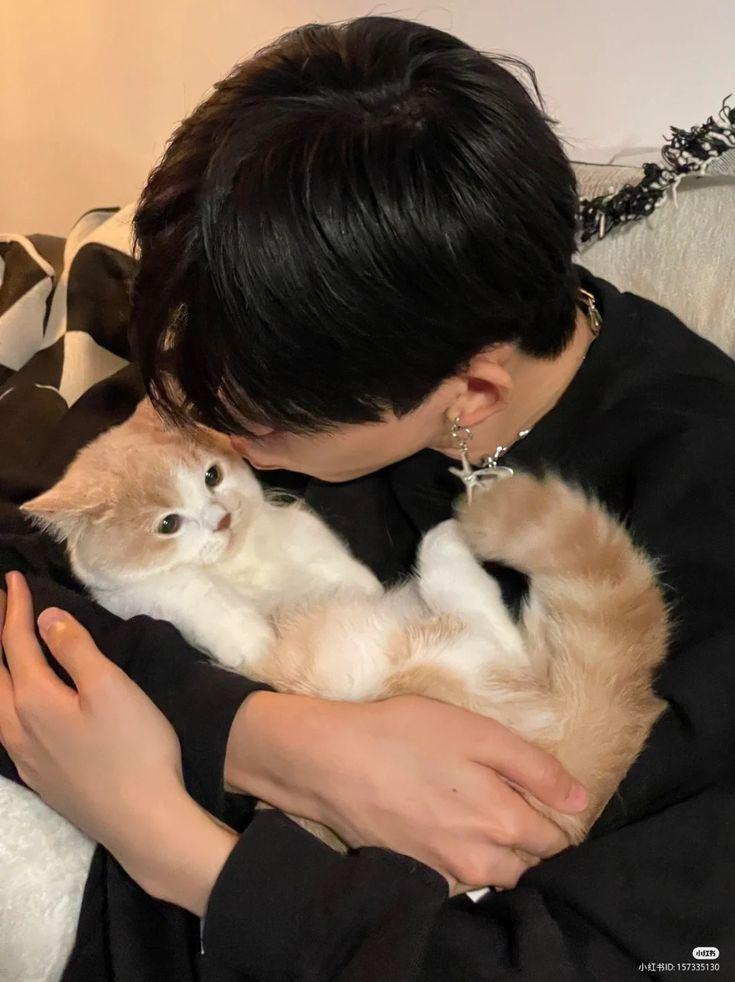kedo: (24, 414, 667, 701)
